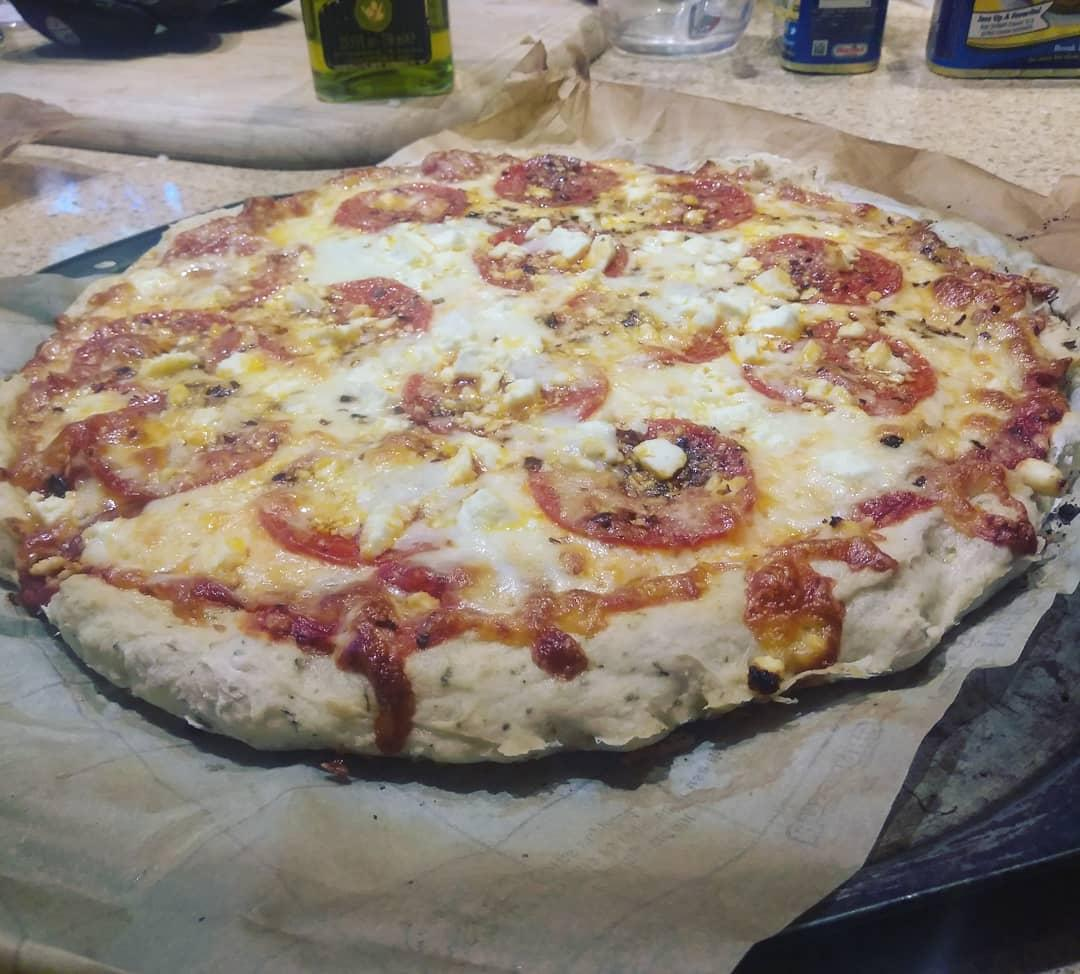Pepperoni: (525, 408, 760, 553), (254, 428, 496, 566), (70, 376, 295, 502), (401, 332, 614, 442), (63, 303, 274, 407), (741, 317, 941, 416), (249, 271, 446, 371), (525, 287, 739, 370), (726, 222, 914, 311), (469, 207, 638, 296), (154, 206, 276, 287), (619, 168, 757, 237), (331, 175, 475, 234), (491, 149, 624, 212)
Pizza: (0, 125, 1080, 772)
